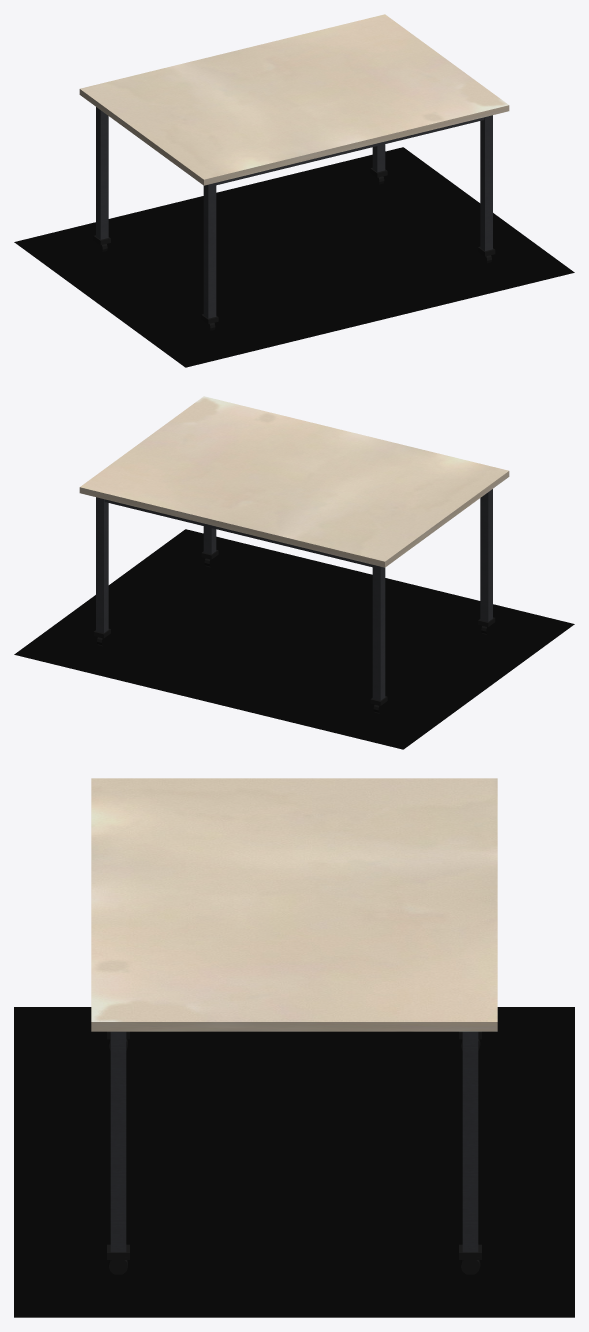
File: table.glb
3 renders of one model, top to bottom at view 1: azimuth 30°, elevation 25°; view 2: azimuth 150°, elevation 25°; view 3: azimuth 270°, elevation 25°, orthographic. The views are drawn at different scales.
Parts seen in each view (by area): view 1: shadow, top, legs; view 2: shadow, top, legs; view 3: shadow, top, legs.
Boxes of the visible parts, x1,y1,x2,y2 form: shadow: [14, 147, 574, 367]; top: [79, 14, 509, 185]; legs: [93, 107, 495, 331]; shadow: [14, 529, 574, 749]; top: [79, 396, 509, 567]; legs: [93, 489, 495, 713]; shadow: [14, 1007, 574, 1317]; top: [91, 778, 497, 1031]; legs: [107, 1031, 481, 1274].
Size of the model in its own units: 1.9 by 0.75 by 1.45.
6 materials, 6 textured.
